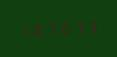one: (17, 22, 29, 38)
seven: (44, 20, 56, 37), (70, 19, 82, 35)
three: (83, 18, 95, 35)
zero: (30, 21, 42, 37), (57, 20, 69, 36)
